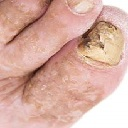Nail Fungal Infection: (81, 21, 118, 59)
